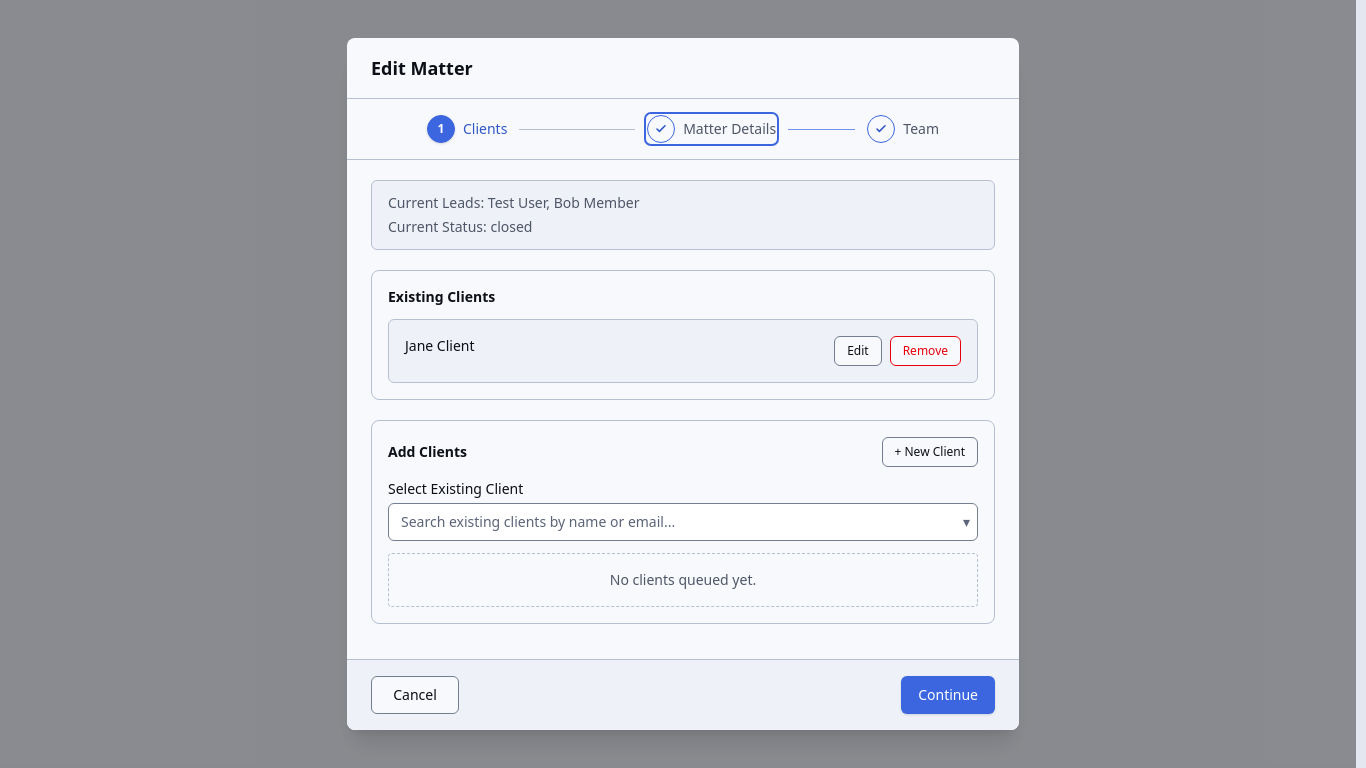
Test: confirming an existing client's removal › removes only the confirmed client from the current matter
Expected: the heading "Jane Client" is shown, [405, 336, 474, 355]
Click the button "Remove" at (925, 351), box [890, 336, 961, 366]
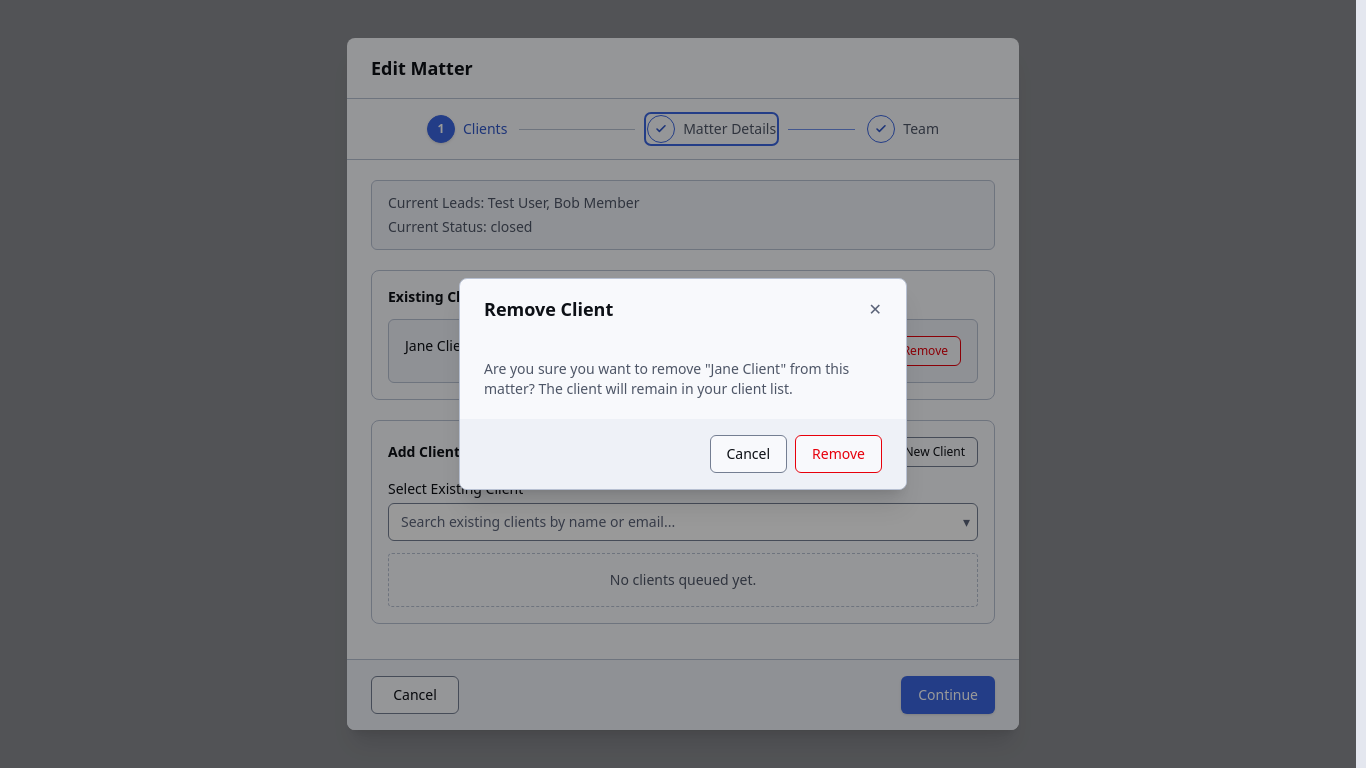
Click the button "Remove" at (839, 454), box [795, 435, 882, 473]
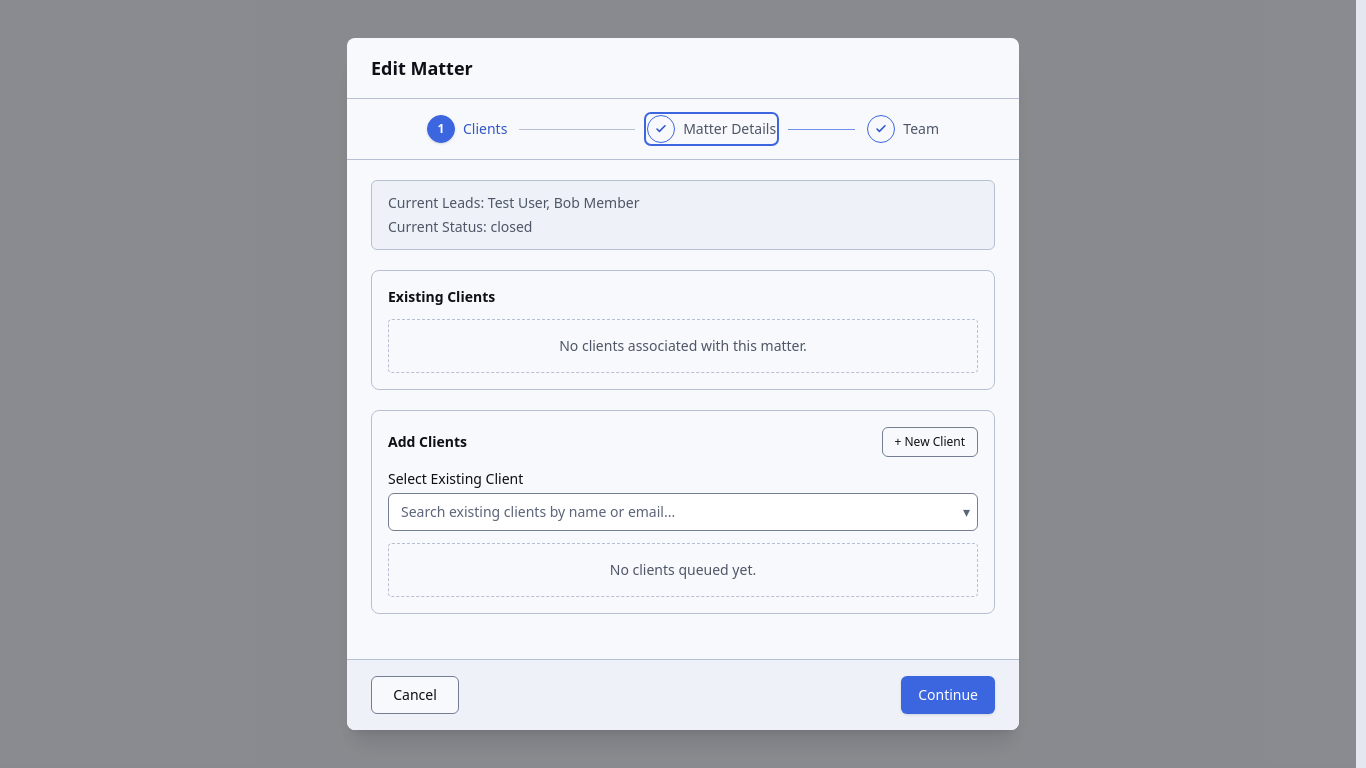
Expected: the heading "Remove Client" is gone
Expected: the text "No clients associated with this matter." is shown, [388, 319, 978, 373]
